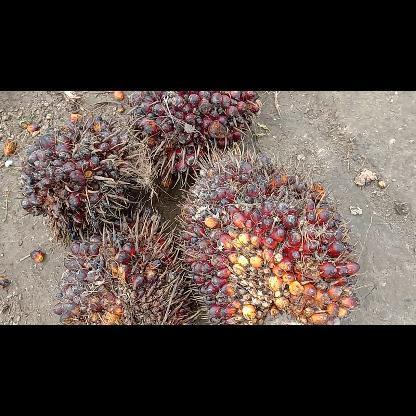TBS masak: (173, 136, 359, 324), (55, 210, 200, 324), (17, 115, 143, 246), (128, 91, 260, 187)
